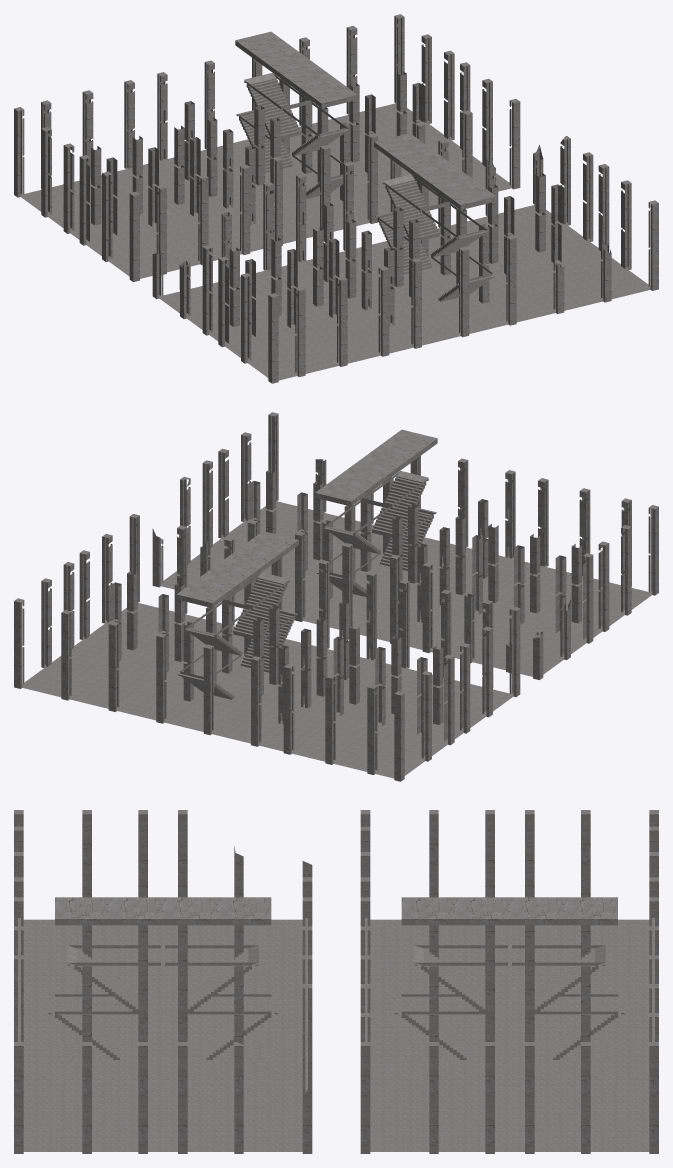
File: edificio_sin_techo.glb
The picture shows the model from 3 angles, top to bottom: view 1: azimuth 30°, elevation 25°; view 2: azimuth 150°, elevation 25°; view 3: azimuth 270°, elevation 25°; orthographic projection. The views are drawn at different scales.
Parts seen in each view (by area): view 1: IndustryBuilding1D, IndusrtyBuilding1; view 2: IndusrtyBuilding1, IndustryBuilding1D; view 3: IndusrtyBuilding1, IndustryBuilding1D.
Part boxes in pixels (bbox=[...]): IndustryBuilding1D: bbox=[152, 133, 658, 383]; IndusrtyBuilding1: bbox=[14, 14, 520, 281]; IndusrtyBuilding1: bbox=[14, 514, 520, 781]; IndustryBuilding1D: bbox=[152, 412, 658, 679]; IndusrtyBuilding1: bbox=[360, 810, 658, 1153]; IndustryBuilding1D: bbox=[14, 810, 312, 1153].
Size of the model in its own units: 40.8 by 11.75 by 47.15.
2 materials, 2 textured.
